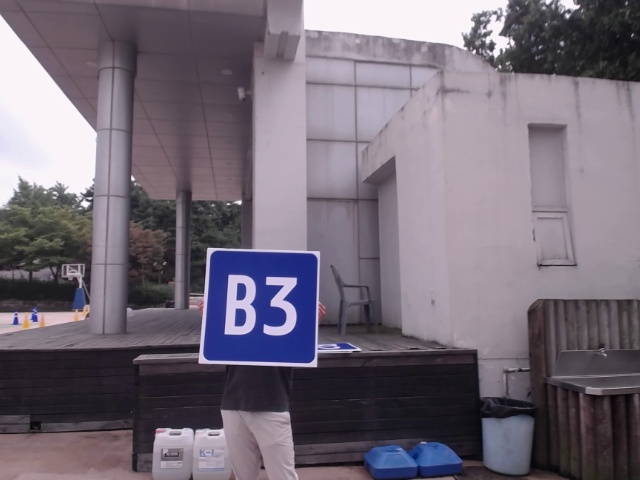delivery_b3: (204, 250, 317, 364)
